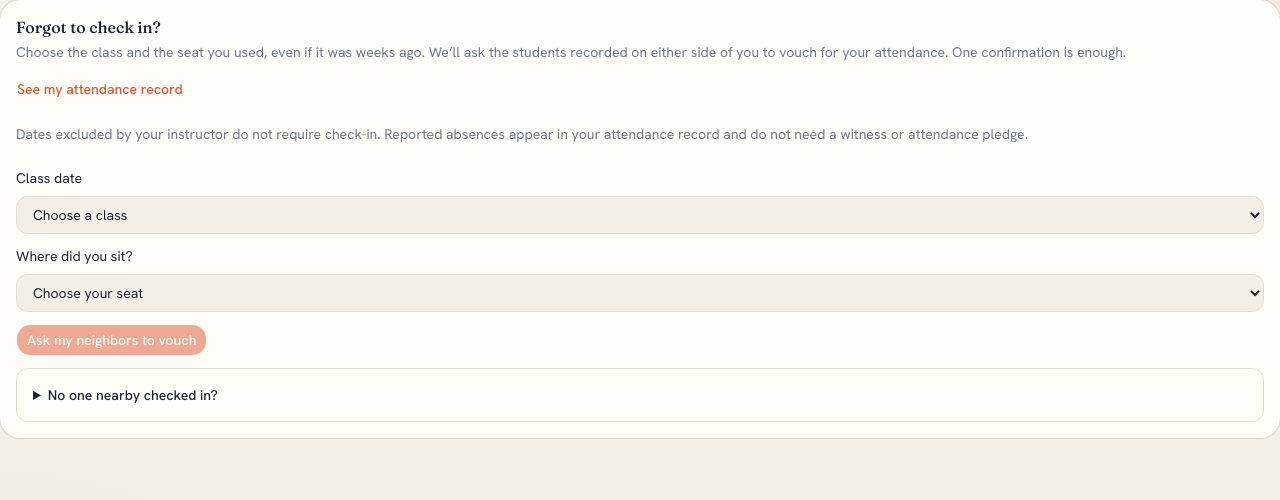
Test: late check-in › requires a date and seat before asking neighbors, including weeks-old dates
The width and height of the screenshot is (1280, 500).
Expected: the button "Ask my neighbors to vouch" is disabled, [16,324,207,356]
Select "2026-09-15" in the dropdown labelled "Class date" at [640, 215], box [16,196,1264,234]
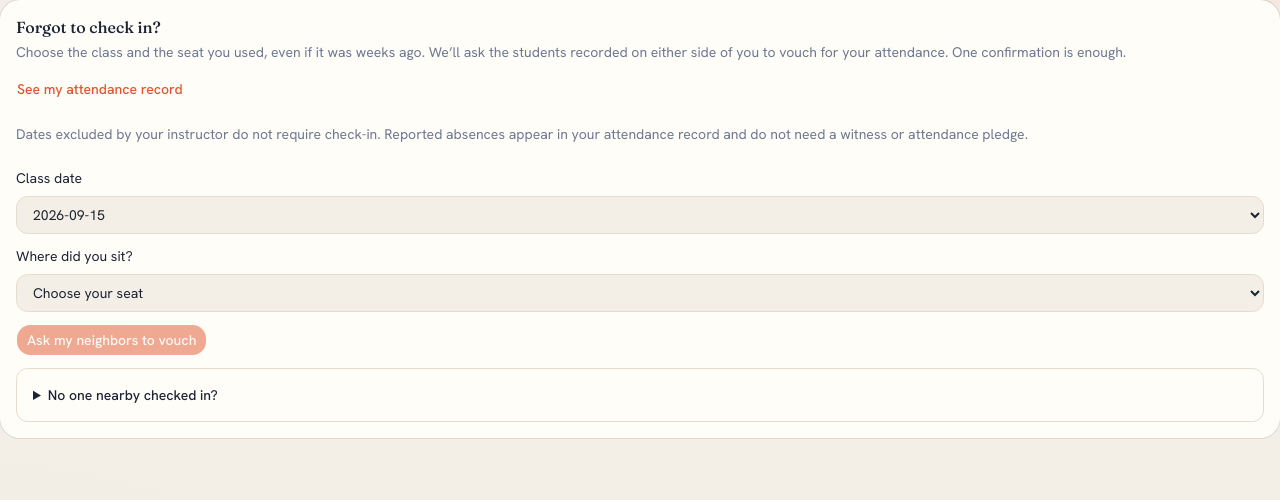
Select "B4" in the dropdown labelled "Where did you sit?" at [640, 293], box [16,274,1264,312]
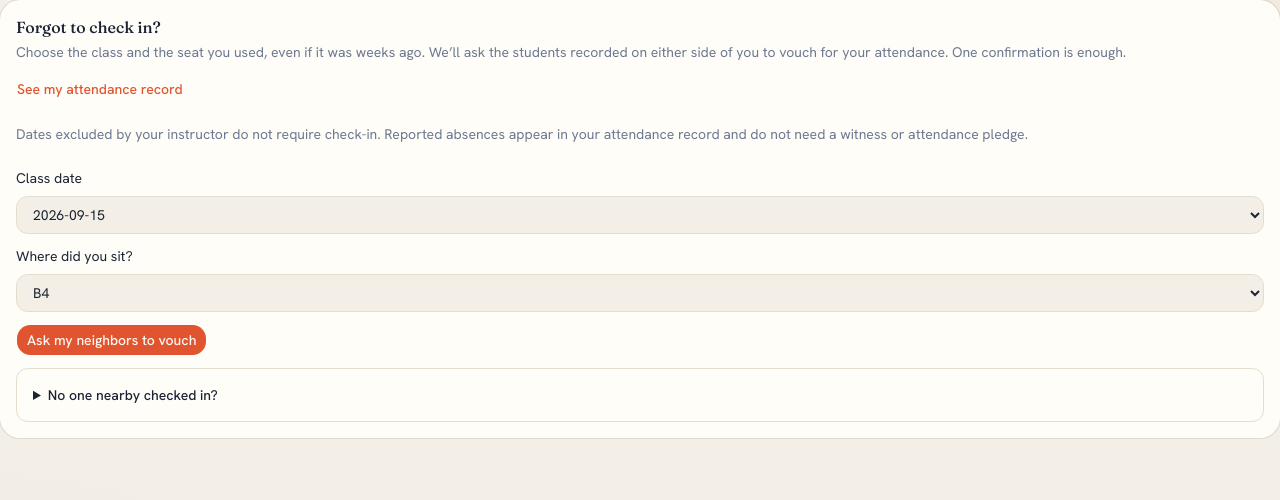
Click the button "Ask my neighbors to vouch" at [112, 340], box [16,324,207,356]
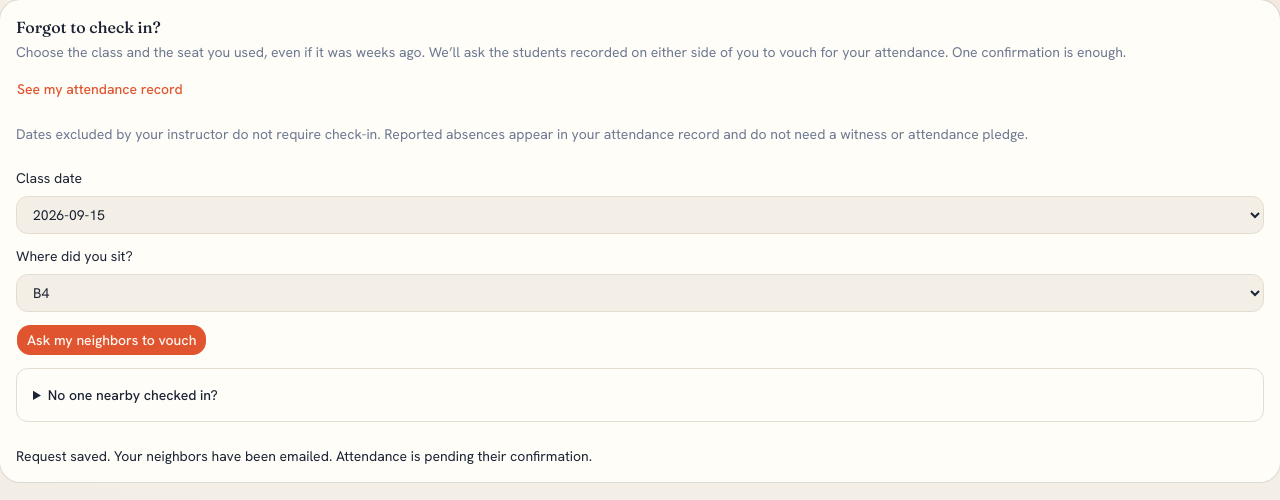
Now the message shows "pending their confirmation", box [16,447,592,465]
